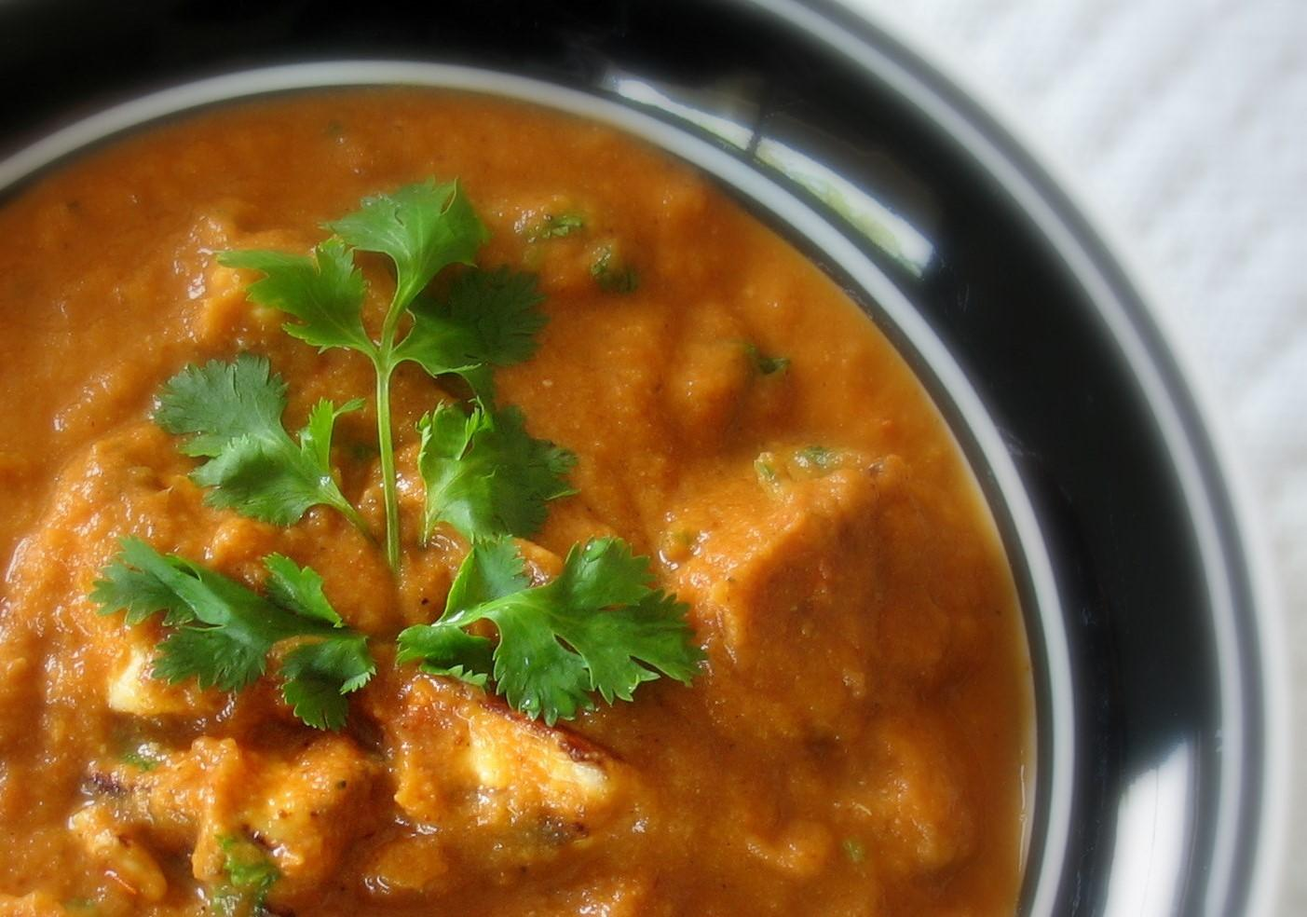ShahiPaneer: (0, 86, 1041, 917)
